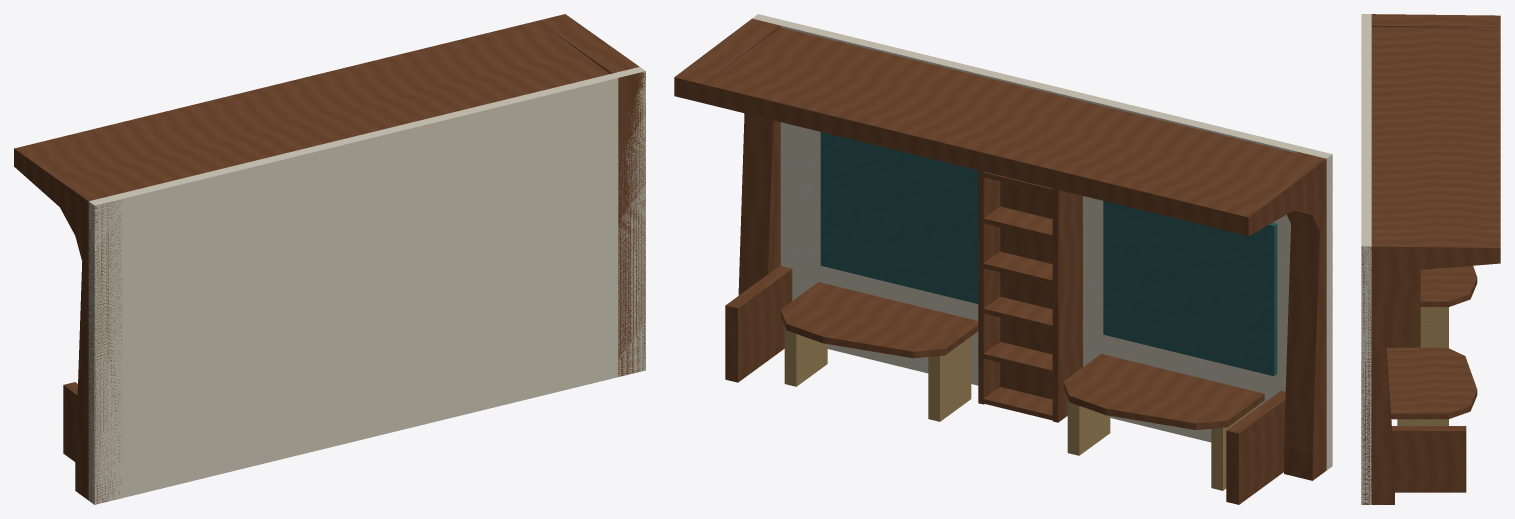
File: AST-RES-002.glb
3 views of the same model, side by side, from view 1: azimuth 30°, elevation 25°; view 2: azimuth 150°, elevation 25°; view 3: azimuth 270°, elevation 25° (orthographic). The views are drawn at different scales.
Visible parts, largest first — view 1: READ_Back, READ_Canopy, READ_RolledPortal_0, READ_RolledPortal_1, READ_LowReturn; view 2: READ_Canopy, READ_Back, READ_TextileBack_0, READ_TextileBack_1, READ_RolledPortal_0, READ_Desk_0, READ_RolledPortal_1, READ_Desk_1, READ_ShelfBack, READ_ShelfSide_2.66, READ_LowReturnOther, READ_LowReturn (+10 smaller); view 3: READ_Canopy, READ_RolledPortal_1, READ_Desk_1, READ_Back, READ_LowReturnOther, READ_ShelfSide_3.49, READ_Desk_0, READ_RolledPortal_0, READ_DeskBearing_0_1, READ_ShelfBack, READ_DeskBearing_1_1.
Part boxes in pixels (x1,y1,x2,y2): READ_Back: (88, 67, 645, 504); READ_Canopy: (42, 20, 609, 194); READ_RolledPortal_0: (14, 142, 122, 504); READ_RolledPortal_1: (538, 14, 645, 376); READ_LowReturn: (63, 382, 77, 461); READ_Canopy: (703, 27, 1295, 229); READ_Back: (752, 14, 1332, 470); READ_TextileBack_0: (1103, 201, 1277, 376); READ_TextileBack_1: (820, 132, 978, 303); READ_RolledPortal_0: (1220, 152, 1332, 480); READ_Desk_0: (1063, 354, 1264, 430); READ_RolledPortal_1: (674, 18, 780, 295); READ_Desk_1: (780, 282, 978, 358); READ_ShelfBack: (1000, 181, 1082, 399); READ_ShelfSide_2.66: (1052, 188, 1082, 422); READ_LowReturnOther: (725, 265, 792, 382); READ_LowReturn: (1226, 390, 1285, 504); READ_Canopy: (1371, 27, 1500, 236); READ_RolledPortal_1: (1361, 235, 1500, 504); READ_Desk_1: (1386, 347, 1477, 419); READ_Back: (1361, 14, 1371, 504); READ_LowReturnOther: (1392, 426, 1466, 492); READ_ShelfSide_3.49: (1383, 270, 1420, 347); READ_Desk_0: (1420, 265, 1477, 306); READ_RolledPortal_0: (1371, 14, 1500, 27); READ_DeskBearing_0_1: (1420, 307, 1448, 348); READ_ShelfBack: (1383, 287, 1393, 347); READ_DeskBearing_1_1: (1397, 419, 1448, 425).
Size of the model in its own units: 6.4 by 3.32 by 1.62.
Materials: 6 (5 with a texture image).
